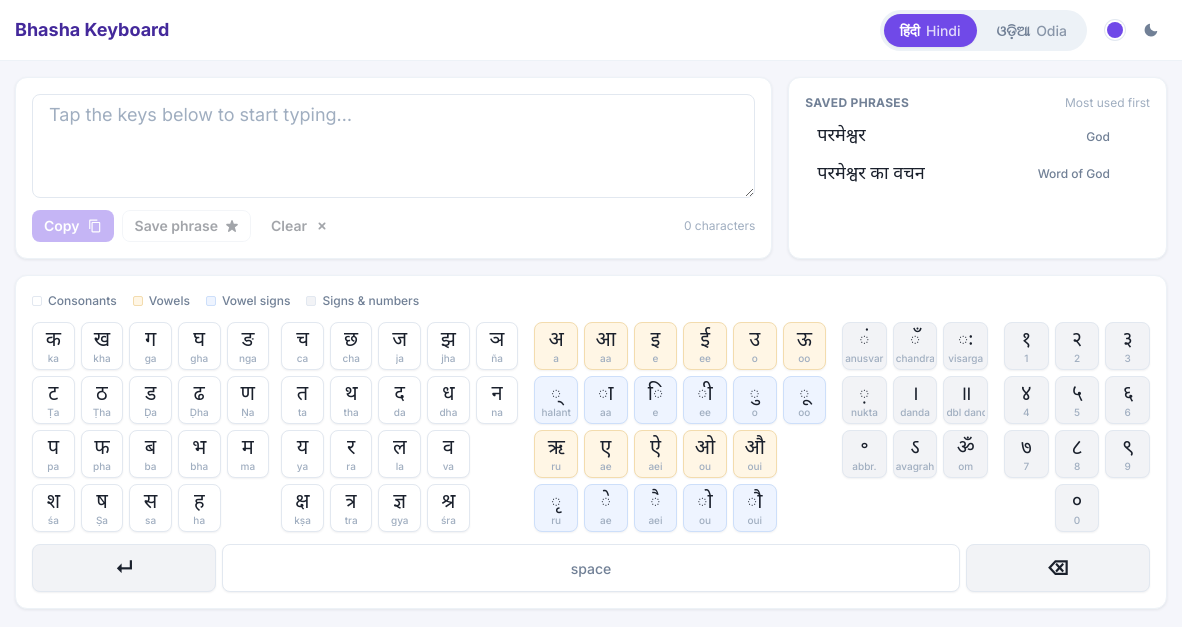
Test: inserts at the cursor instead of the end
The image size is (1182, 627).
Click the button with aria-label "क, ka". click: (53, 346)
box: top-left (32, 322), bottom-right (75, 370)
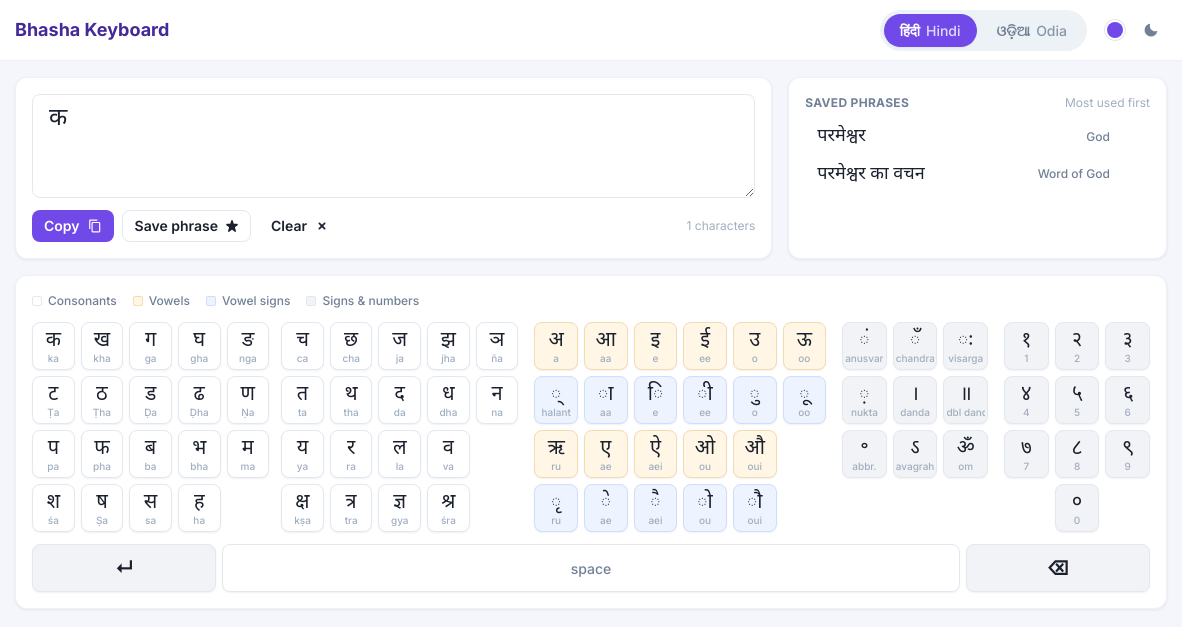
Click the button with aria-label "म, ma". click: (248, 454)
box: top-left (226, 430), bottom-right (269, 478)
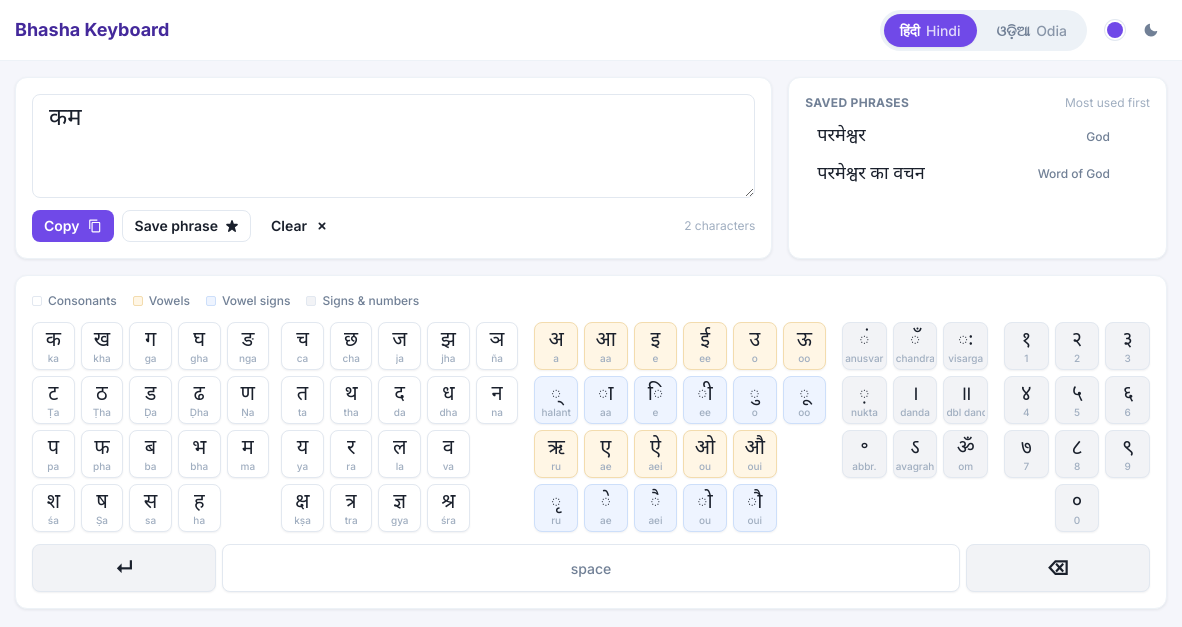
Click the button with aria-label "ा, aa". click: (606, 400)
box: top-left (584, 376), bottom-right (628, 424)
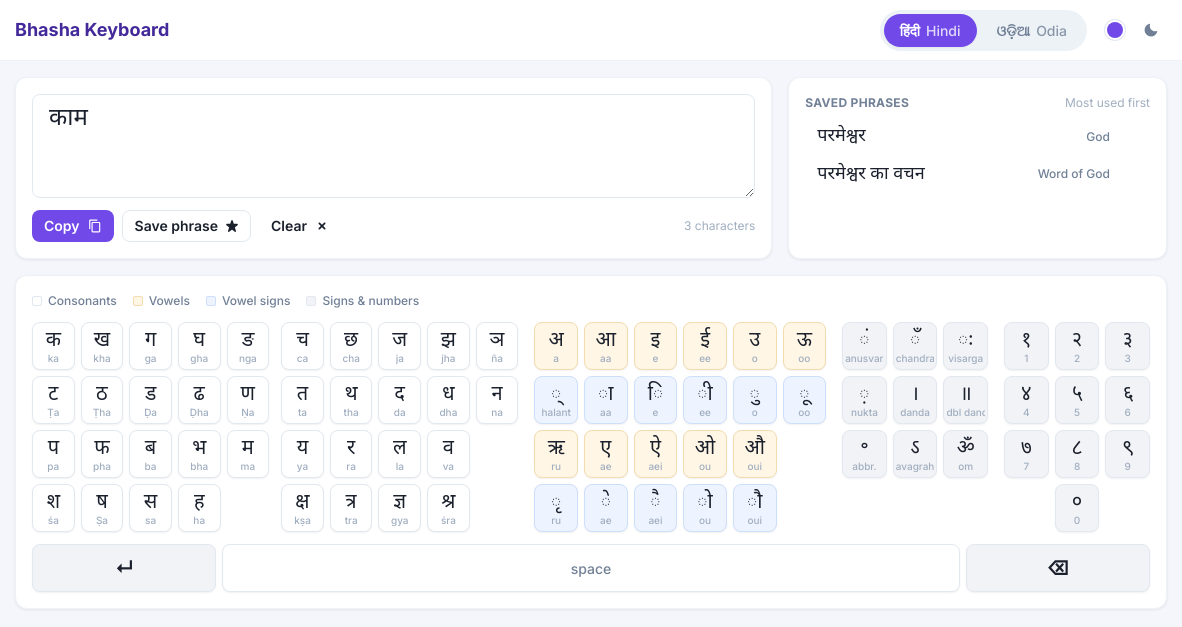
Check: the text box named "Hindi text" holds "काम", box top-left (32, 94), bottom-right (755, 198)
